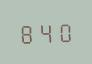eight: (18, 20, 35, 44)
four: (37, 20, 54, 43)
zero: (55, 19, 72, 43)
